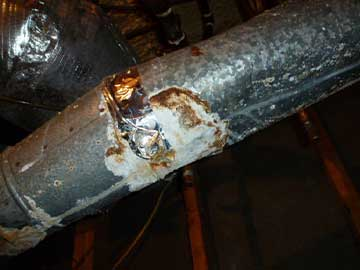Severe: (84, 66, 230, 190)
